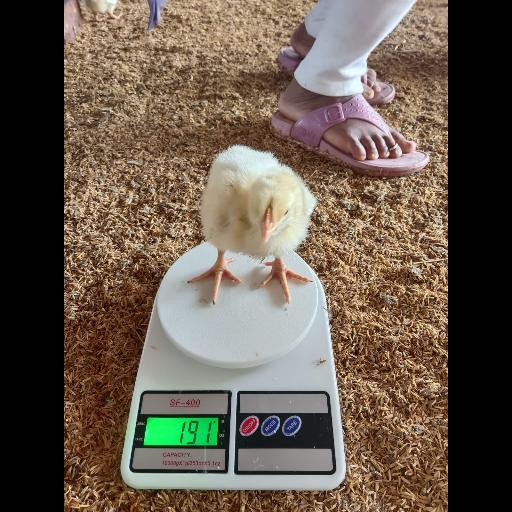chick: (188, 146, 320, 306)
